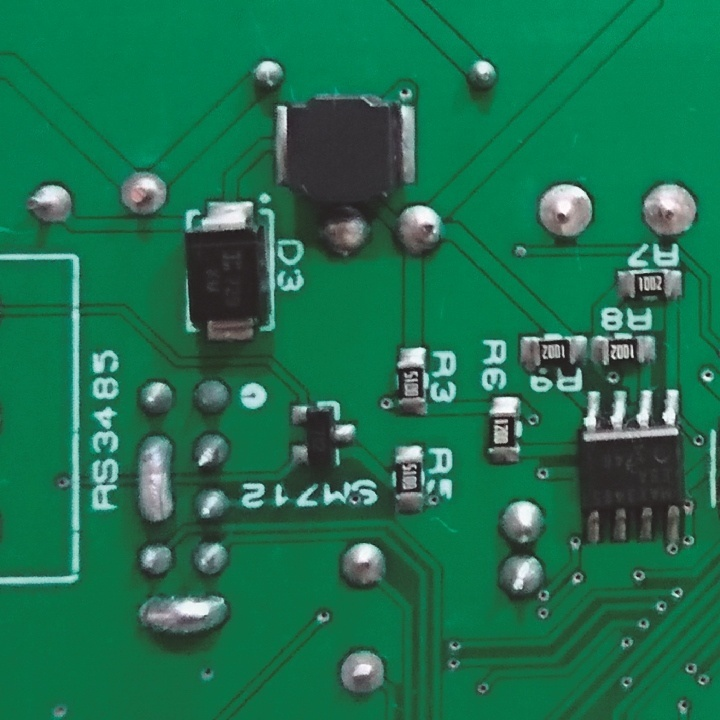F: (637, 179, 702, 243), (533, 180, 595, 240), (113, 168, 176, 218), (334, 646, 391, 700), (20, 178, 81, 225)
P: (133, 586, 234, 640), (130, 429, 179, 528)
